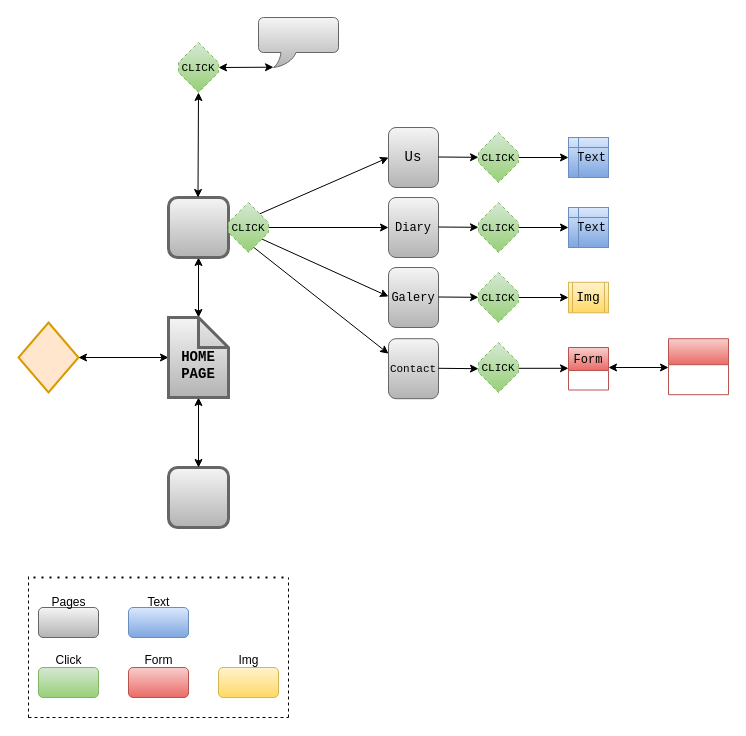
Image size: 746x736. Some labels were removed from this diagram. The shapes that lost their labels are listed below. From the top down, each one's centre as x and y in pixels, then its label:
the point at 298,42: Social Red
the point at 198,227: Header Navbar
the point at 48,357: STAR
the point at 698,366: Data
the point at 198,497: Footer
